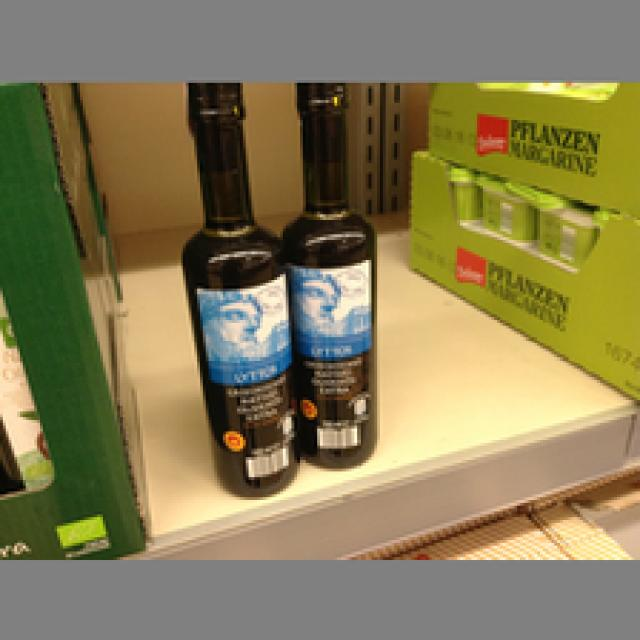groceries: (174, 80, 297, 497), (277, 80, 380, 466)
